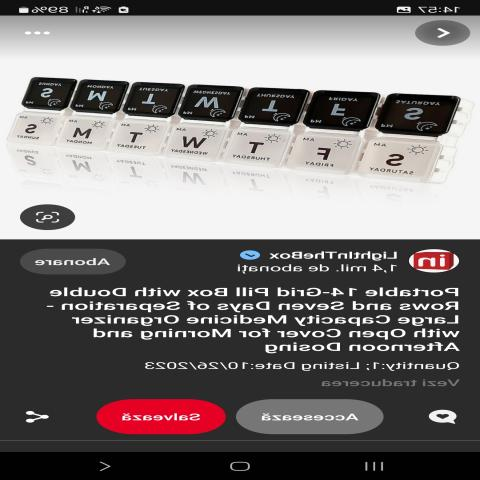Pill-box: (0, 46, 465, 189)
